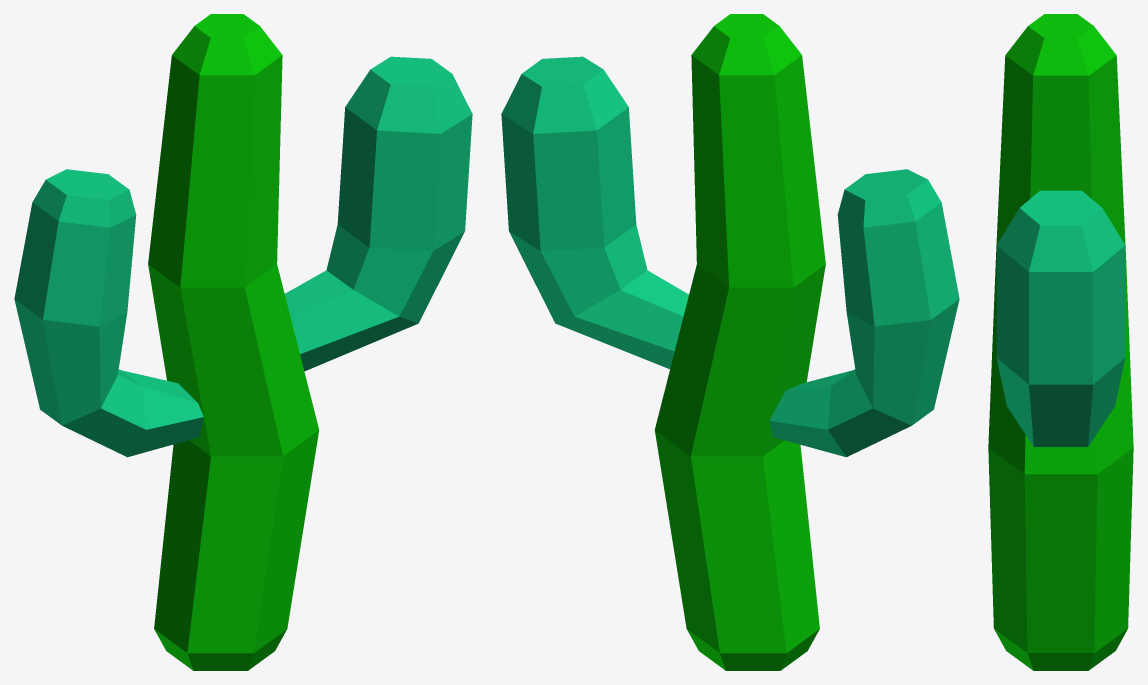
File: kaktus.fbx
The picture shows the model from 3 angles, left to right: view 1: azimuth 30°, elevation 25°; view 2: azimuth 150°, elevation 25°; view 3: azimuth 270°, elevation 25°; orthographic projection.
Visible parts, largest first — view 1: Walec; view 2: Walec; view 3: Walec.
Part boxes in pixels (left/top/right/bottom): Walec: left=14, top=14, right=472, bottom=670; Walec: left=501, top=14, right=959, bottom=670; Walec: left=988, top=14, right=1133, bottom=670.
Bounding box in the file's own units: 685 × 954 × 200.
